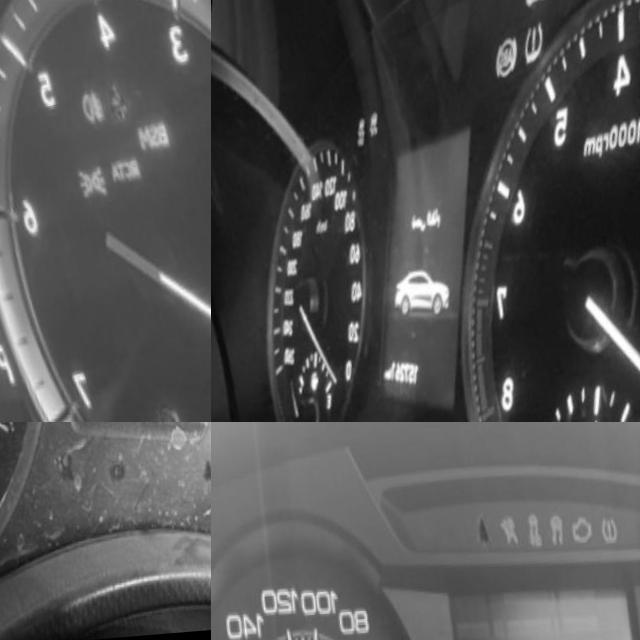Seat Belt: (469, 518, 493, 558), (189, 464, 208, 492)
security: (514, 0, 554, 23)
